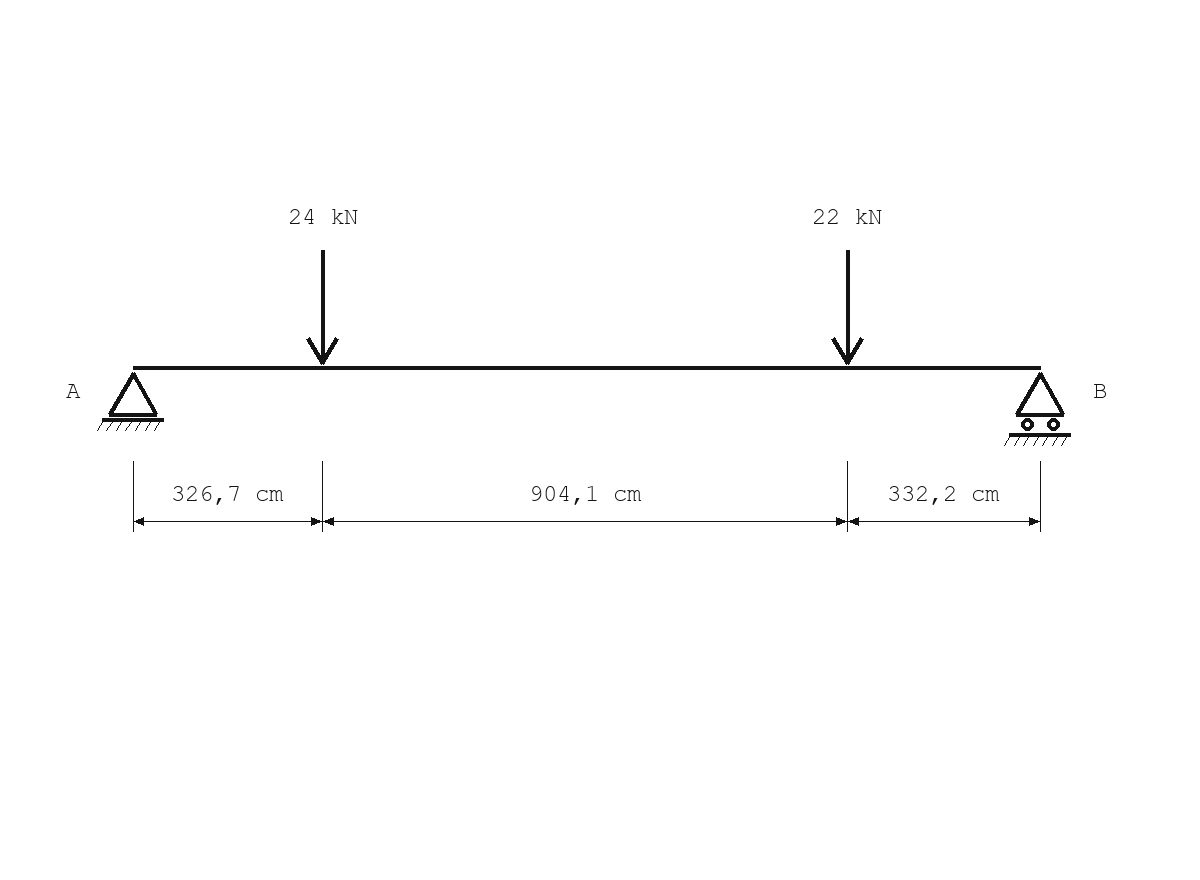pin_support: (97, 372, 164, 431)
point_load: (306, 250, 339, 365), (831, 250, 864, 365)
roller_support: (1004, 372, 1071, 446)
